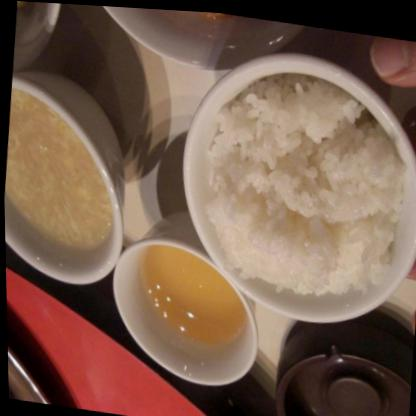rice ball: (196, 60, 416, 326)
